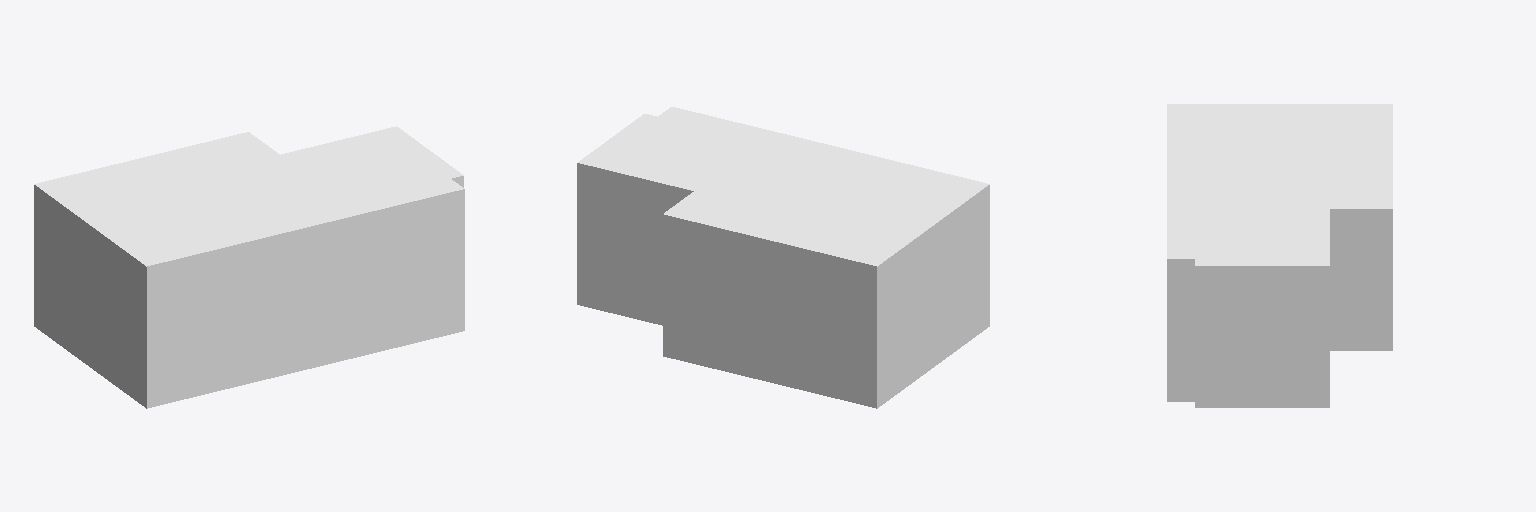
File: chambre2.obj
3 renders of one model, left to right at view 1: azimuth 30°, elevation 25°; view 2: azimuth 150°, elevation 25°; view 3: azimuth 270°, elevation 25°, orthographic.
Parts seen in each view (by area): view 1: mur_8, plafond_1, mur_1, plafond_2, plafond_3; view 2: mur_2, plafond_1, mur_1, mur_4, plafond_2, plafond_3; view 3: plafond_1, mur_5, mur_3, plafond_2, mur_7, plafond_3.
Boxes of the visible parts, box(x1,y1,x2,y2) form: mur_8: box(147, 189, 464, 408); plafond_1: box(34, 132, 359, 266); mur_1: box(34, 185, 146, 408); plafond_2: box(281, 129, 463, 213); plafond_3: box(384, 126, 463, 178); mur_2: box(663, 214, 876, 408); plafond_1: box(664, 132, 989, 266); mur_1: box(877, 185, 989, 408); mur_4: box(577, 163, 693, 325); plafond_2: box(591, 107, 773, 190); plafond_3: box(578, 114, 656, 165); plafond_1: box(1167, 104, 1392, 208); mur_5: box(1195, 266, 1329, 407); mur_3: box(1330, 209, 1392, 350); plafond_2: box(1167, 209, 1329, 258); mur_7: box(1167, 259, 1194, 401); plafond_3: box(1195, 259, 1329, 265).
Bounding box in the file's own units: 6.59 × 2.7 × 3.88.